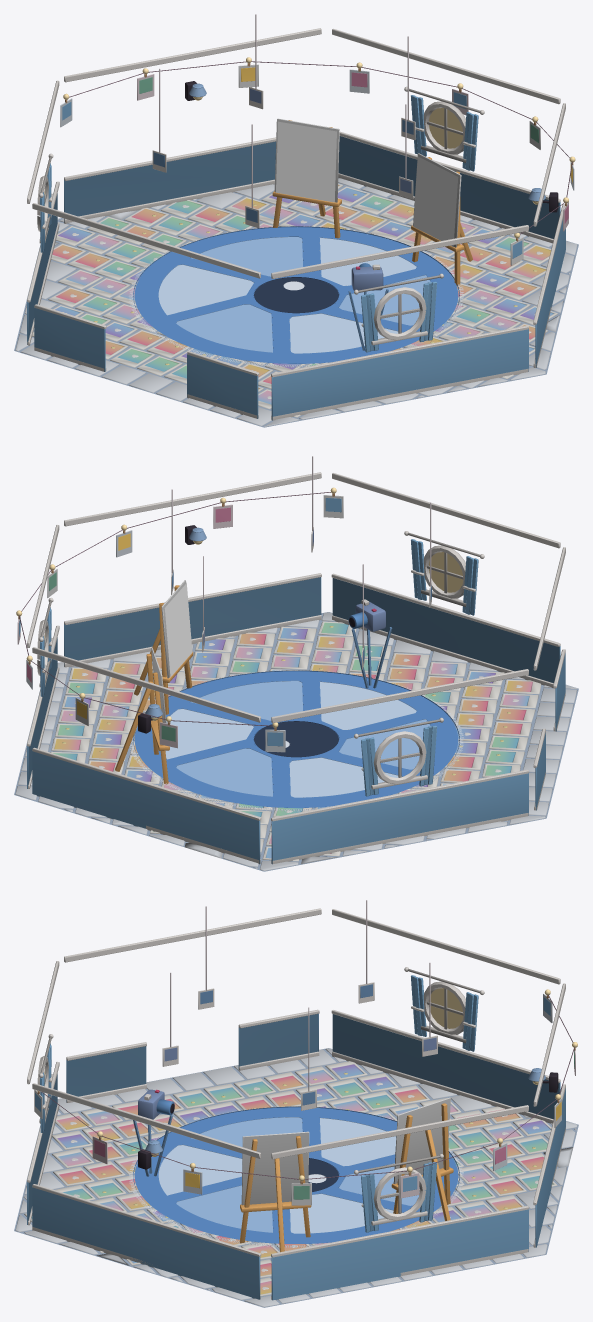
The model's file is zon_room_photos.glb.
3 renders of one model, top to bottom at view 1: azimuth 30°, elevation 25°; view 2: azimuth 150°, elevation 25°; view 3: azimuth 270°, elevation 25°, orthographic.
Visible parts, largest first — view 1: SM_zon_room_photos_room_floor_plaster_x0_zm1, SM_zon_room_photos_room_rug_fabric_x0_zm1, SCREEN_fur_easel_photos_pin__0, SCREEN_fur_easel_photos_pin__1, SM_zon_room_photos_room_floor_wood_x0_zm1, SM_zon_room_photos_glow_vc_x0_zm1; view 2: SM_zon_room_photos_room_floor_plaster_x0_zm1, SM_zon_room_photos_room_rug_fabric_x0_zm1, SM_zon_room_photos_room_floor_wood_x0_zm1, SCREEN_fur_easel_photos_pin__1, SM_zon_room_photos_glow_vc_x0_zm1; view 3: SM_zon_room_photos_room_floor_plaster_x0_zm1, SM_zon_room_photos_room_rug_fabric_x0_zm1, SM_zon_room_photos_room_floor_wood_x0_zm1, SM_zon_room_photos_glow_vc_x0_zm1.
Boxes of the visible parts, box(x1,y1,x2,y2) form: SM_zon_room_photos_room_floor_plaster_x0_zm1: box(14, 14, 578, 427); SM_zon_room_photos_room_rug_fabric_x0_zm1: box(129, 225, 463, 367); SCREEN_fur_easel_photos_pin__0: box(276, 121, 336, 202); SCREEN_fur_easel_photos_pin__1: box(413, 156, 458, 246); SM_zon_room_photos_room_floor_wood_x0_zm1: box(272, 120, 472, 285); SM_zon_room_photos_glow_vc_x0_zm1: box(44, 57, 575, 238); SM_zon_room_photos_room_floor_plaster_x0_zm1: box(14, 456, 578, 871); SM_zon_room_photos_room_rug_fabric_x0_zm1: box(129, 669, 463, 811); SM_zon_room_photos_room_floor_wood_x0_zm1: box(115, 585, 193, 784); SCREEN_fur_easel_photos_pin__1: box(164, 583, 192, 677); SM_zon_room_photos_glow_vc_x0_zm1: box(16, 487, 463, 727); SM_zon_room_photos_room_floor_plaster_x0_zm1: box(14, 900, 578, 1307); SM_zon_room_photos_room_rug_fabric_x0_zm1: box(129, 1106, 463, 1247); SM_zon_room_photos_room_floor_wood_x0_zm1: box(239, 1103, 453, 1252); SM_zon_room_photos_glow_vc_x0_zm1: box(37, 988, 577, 1181).
Size of the model in its own units: 12.13 by 5.03 by 11.15.
